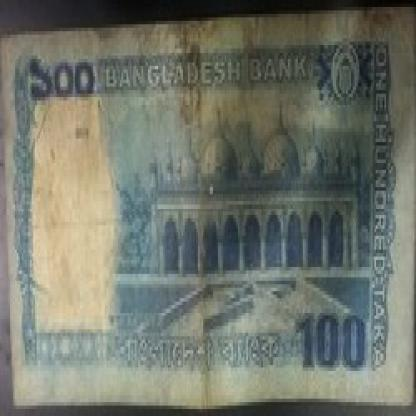one hundred taka: (295, 305, 370, 381), (25, 55, 98, 111)
